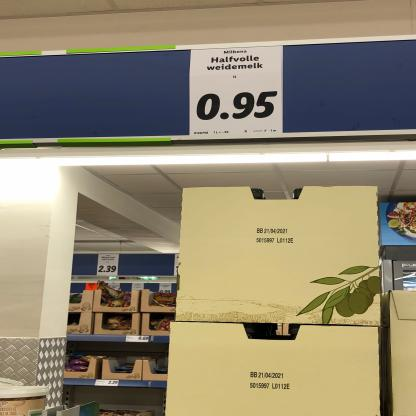prtg: (190, 47, 284, 136)
